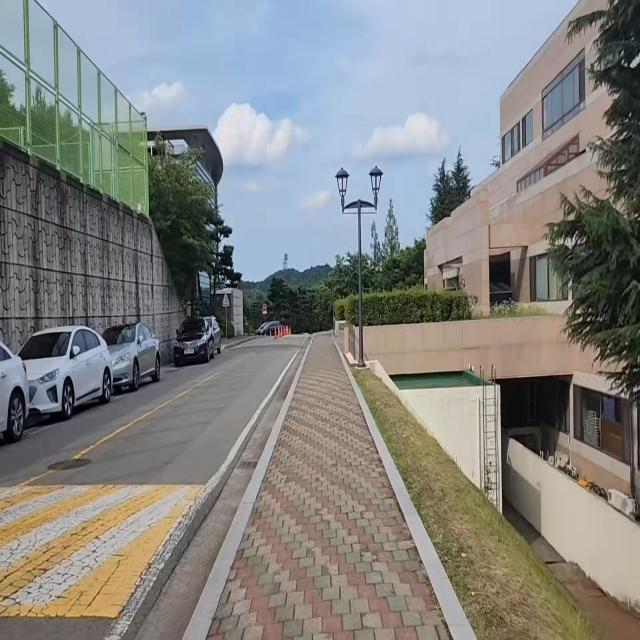obstacle: (330, 157, 386, 373), (15, 326, 114, 434), (98, 319, 165, 404), (0, 326, 32, 436), (171, 319, 228, 370)
road: (0, 332, 308, 640)
sidewalk: (185, 326, 482, 640)
